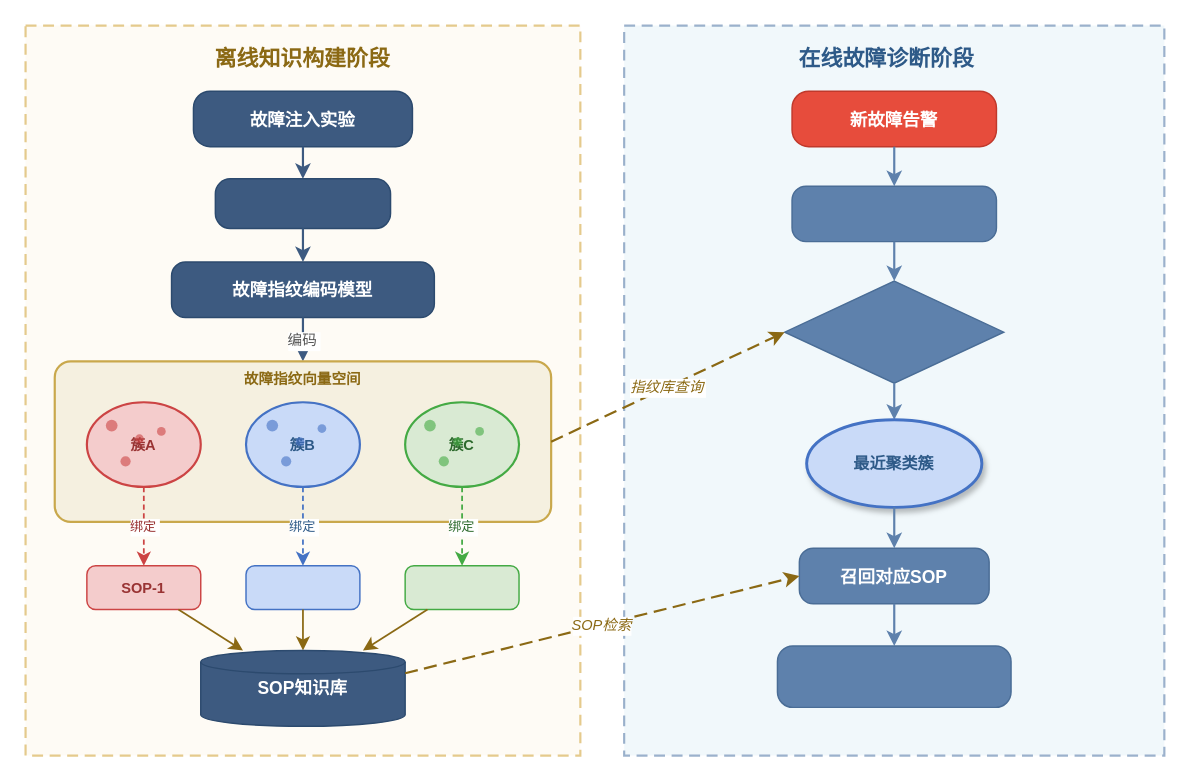
Some shapes in this 1191 by 783 pixel diagram are drawn without their labels. The shapes that lost their labels are listed below. From the top down, each one's centre as x and y in pixels, then its label:
At (x=302, y=202): "故障事件流".
At (x=893, y=213): "故障指纹编码".
At (x=893, y=331): "余弦相似度匹配".
At (x=302, y=587): "SOP-2".
At (x=461, y=587): "SOP-3".
At (x=893, y=676): "智能体协同诊断".
